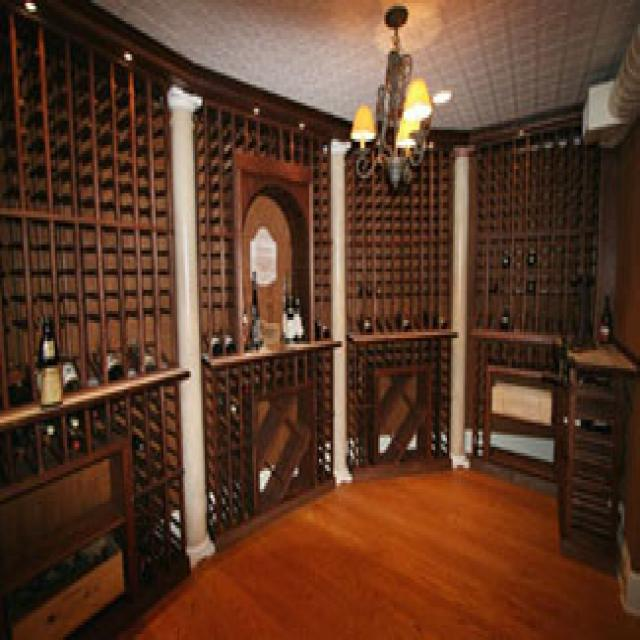bottle crop: (37, 314, 61, 405), (248, 266, 260, 347), (595, 293, 610, 344), (284, 290, 293, 341)
ceiling beam: (90, 0, 635, 130)
column occluded: (163, 82, 213, 571), (321, 136, 351, 486), (445, 142, 471, 468)
drawer handle: (2, 531, 122, 634)
floor -X: (118, 468, 636, 637)
lamp crop: (347, 3, 431, 193), (433, 88, 451, 103)
stand clothes: (551, 332, 636, 555)
wall clock: (575, 0, 638, 610)
